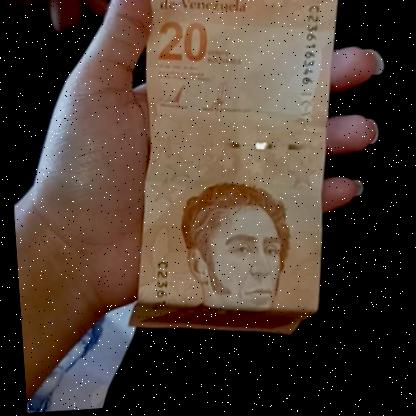twenty-front-vef: (108, 0, 355, 352)
